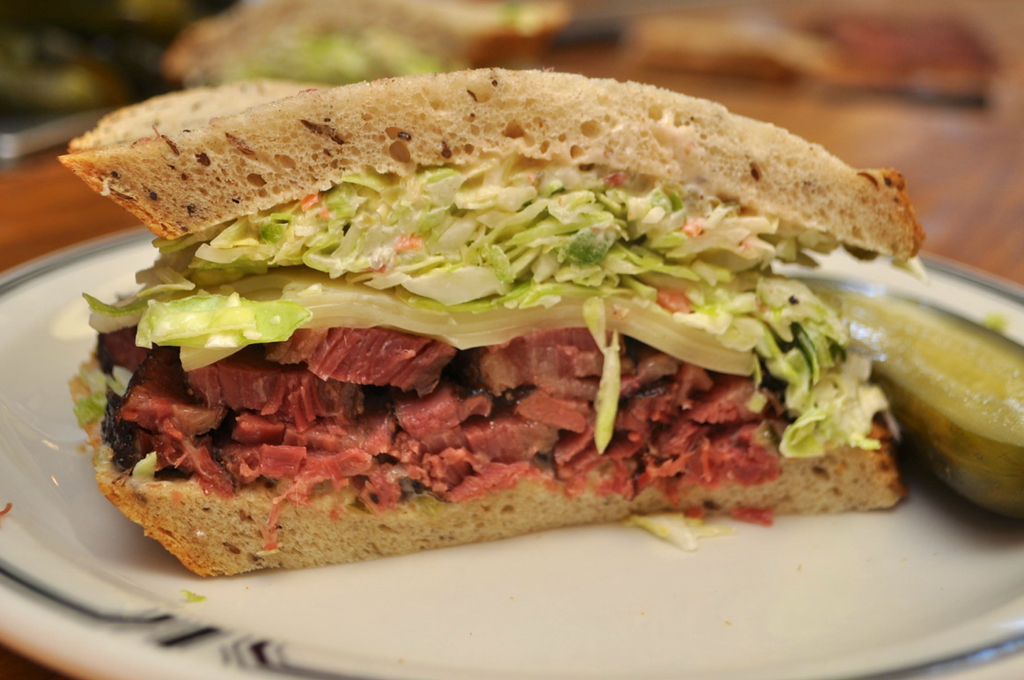sandwich: (50, 71, 933, 590)
